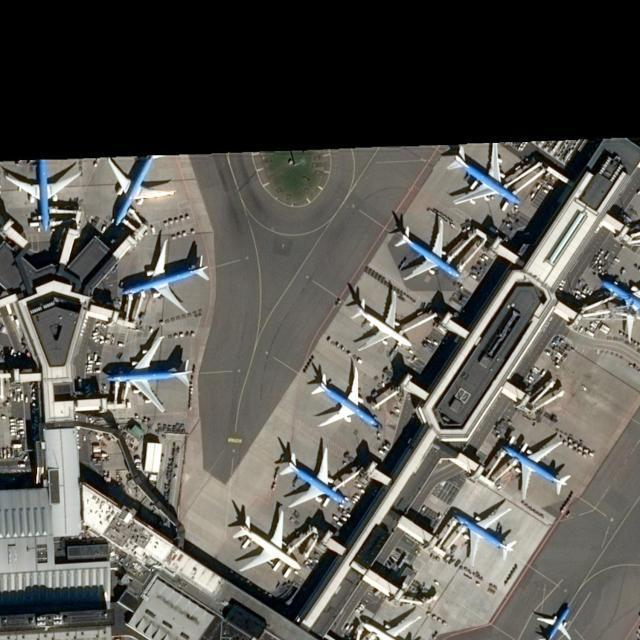Aircraft: (104, 330, 194, 412), (119, 237, 209, 315), (4, 156, 84, 228), (389, 213, 466, 284), (104, 153, 176, 227), (443, 142, 523, 208), (275, 442, 351, 510), (228, 506, 304, 574), (307, 362, 381, 430), (497, 438, 573, 501), (343, 288, 415, 352), (448, 505, 519, 563), (598, 273, 640, 343), (354, 609, 426, 640), (532, 602, 574, 640)
